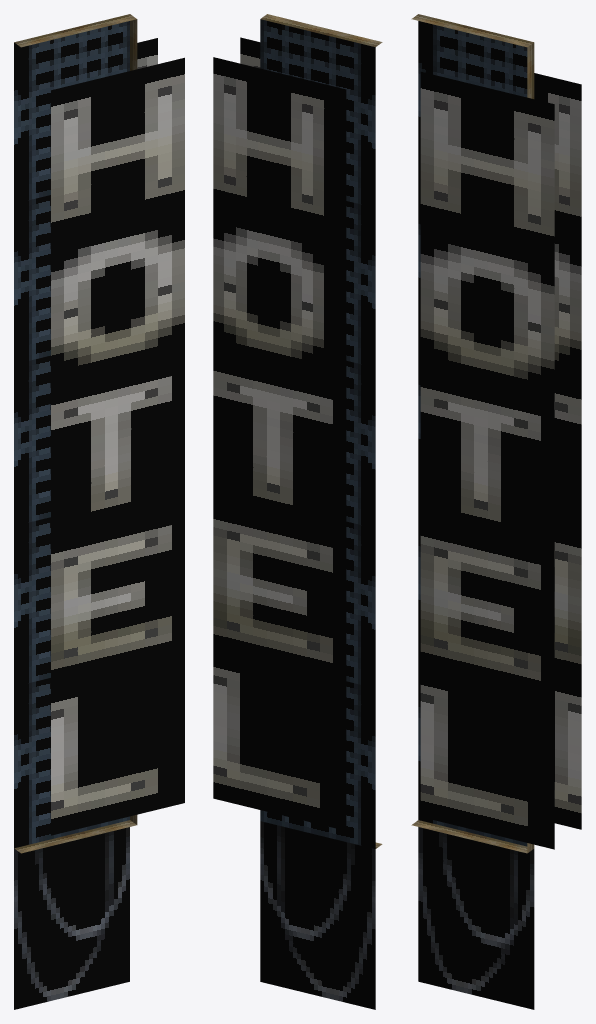
3 renders of one model, left to right at view 1: azimuth 30°, elevation 25°; view 2: azimuth 150°, elevation 25°; view 3: azimuth 330°, elevation 25°, orthographic.
Visible parts, largest first — view 1: prim223-sign; view 2: prim223-sign; view 3: prim223-sign.
Part boxes in pixels (<box>): prim223-sign: <box>14,14,184,1009</box>; prim223-sign: <box>213,14,382,1009</box>; prim223-sign: <box>411,14,581,1009</box>.
Bounding box in the file's own units: 164 × 988 × 50.
2 materials, 2 textured.
